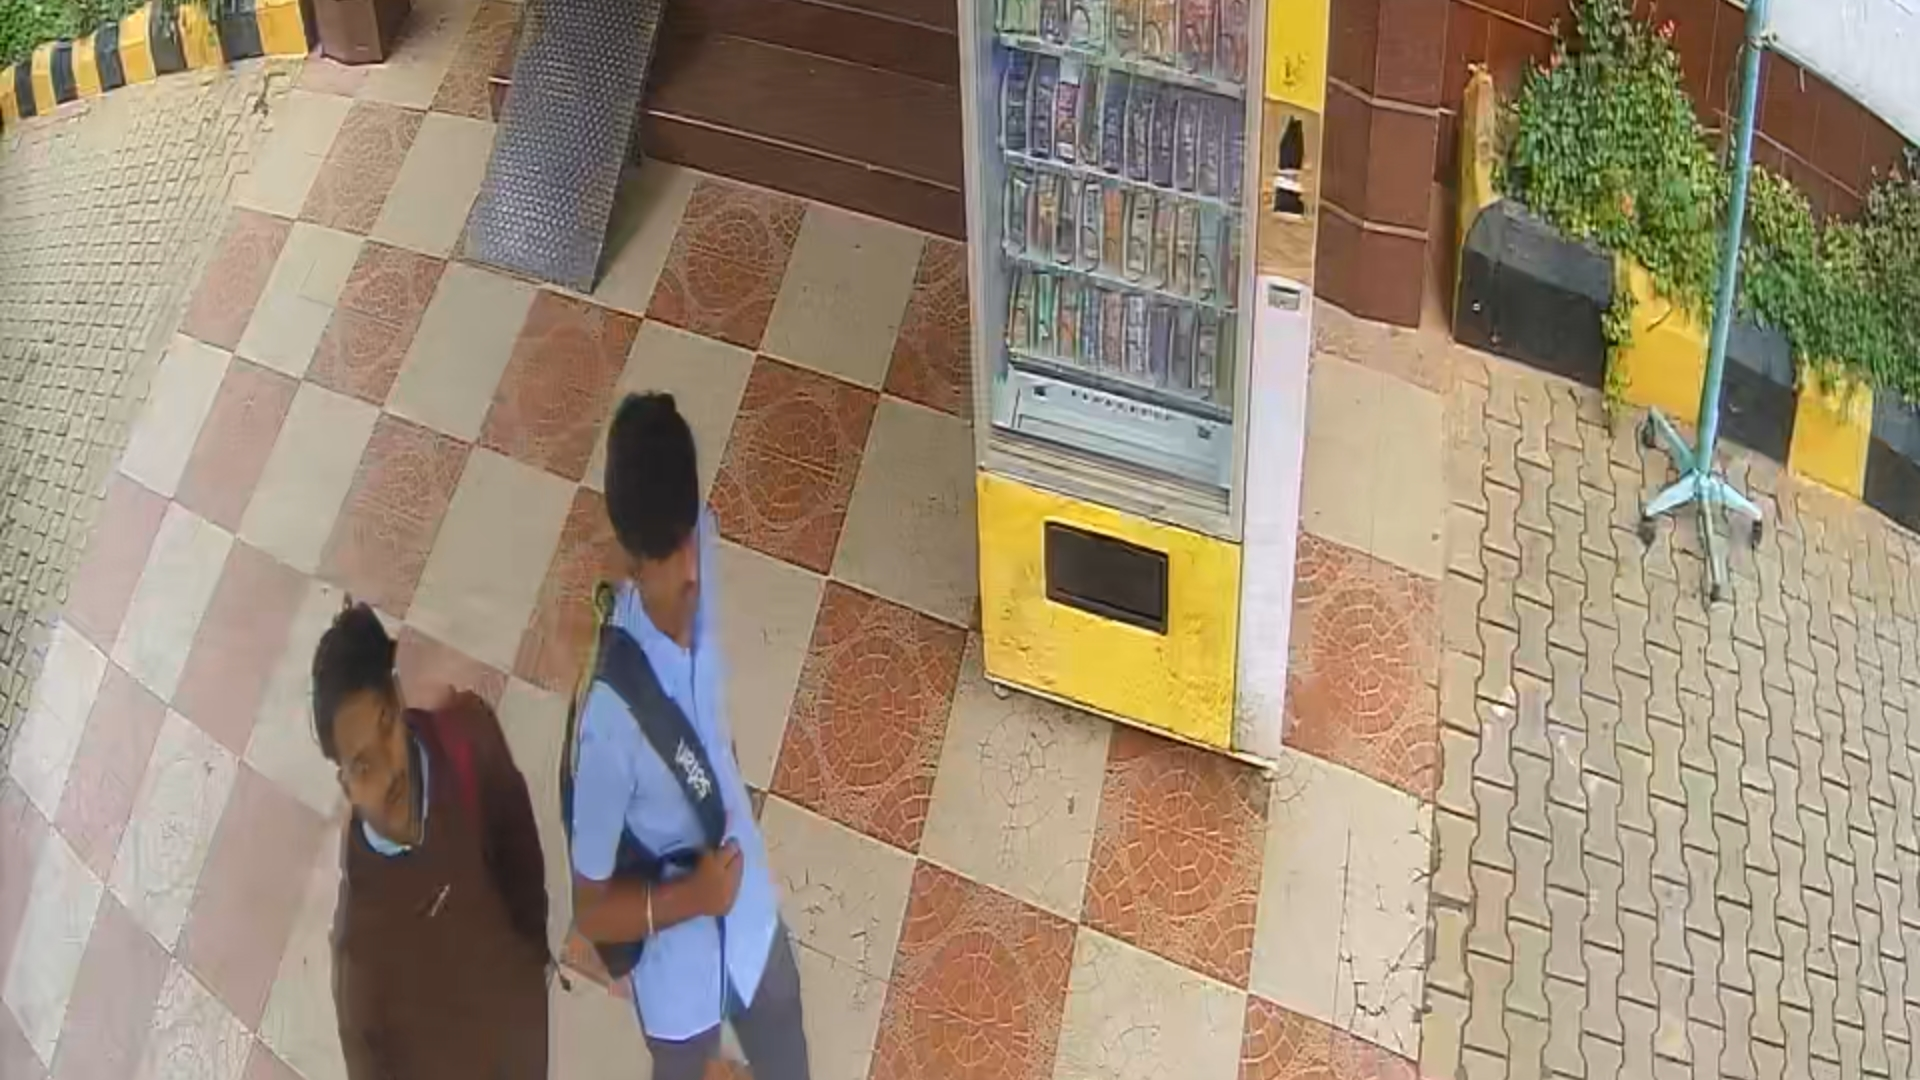intruder: (550, 400, 819, 1080), (297, 585, 556, 1080)
